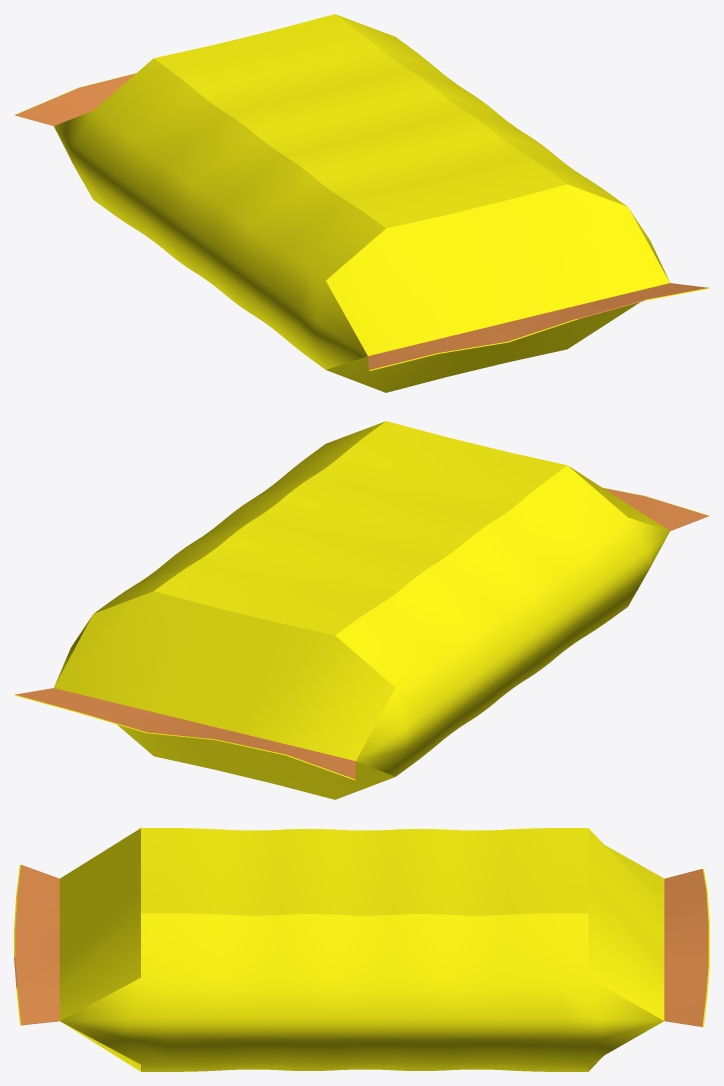
Rendered from  Saco de Salgadinho Fechado LOWPOLY.fbx.
3 views of the same model, one above another, from view 1: azimuth 30°, elevation 25°; view 2: azimuth 150°, elevation 25°; view 3: azimuth 270°, elevation 25° (orthographic). The views are drawn at different scales.
Visible parts, largest first — view 1: Cube.001; view 2: Cube.001; view 3: Cube.001.
Part boxes in pixels (x1,y1,x2,y2): Cube.001: (14,14,709,392); Cube.001: (14,421,709,799); Cube.001: (14,828,709,1071).
Size of the model in its own units: 225 by 104 by 415.
